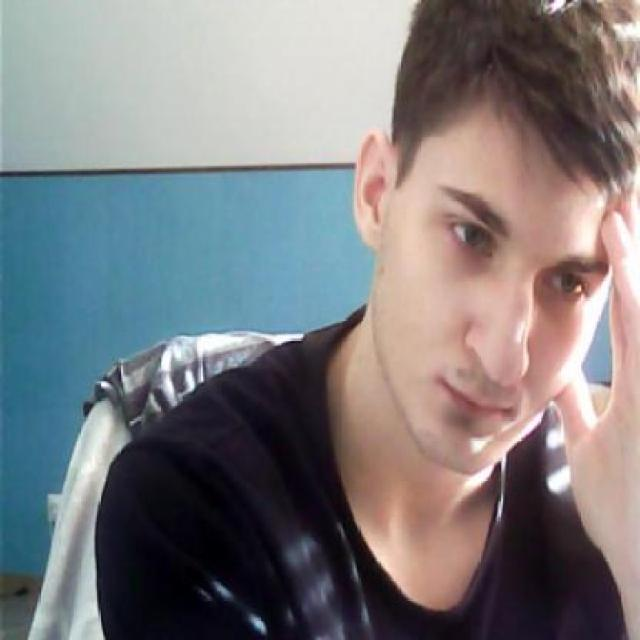awake: (447, 215, 495, 260), (547, 268, 587, 300)
